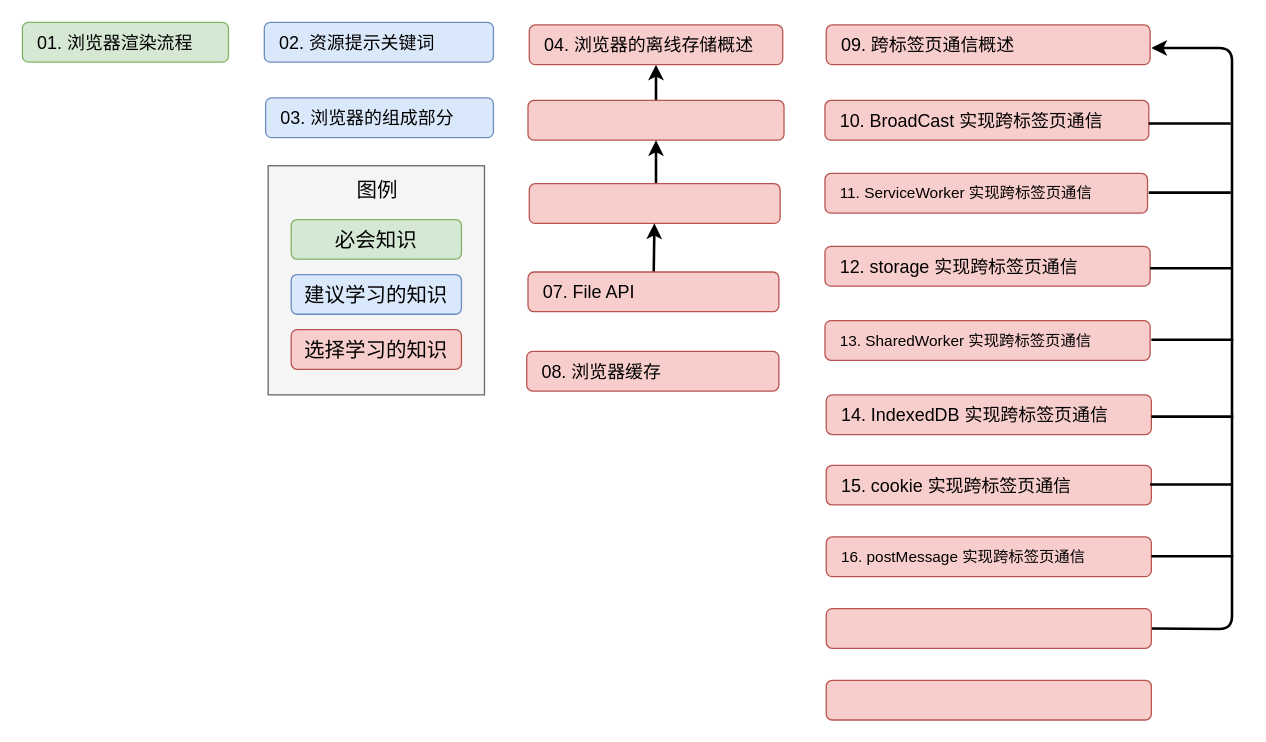
Image size: 1266x742. Some labels were removed from this diagram. The centre of each missing label's shape, as x and y in pixels:
"05. WebSQL" goes at (x=655, y=119).
"06. IndexedDB" goes at (x=654, y=202).
"17. Websocket 实现跨标签页通信" goes at (x=988, y=627).
"18. Web Worker" goes at (x=988, y=699).
